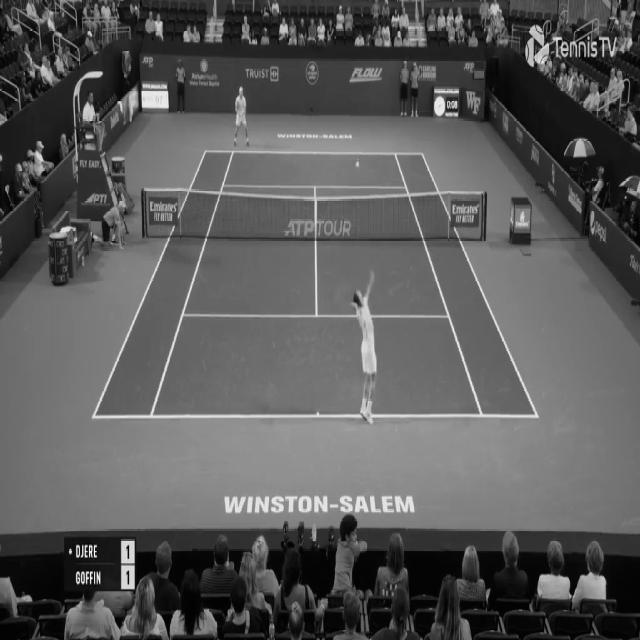tennis-court: (92, 149, 539, 419)
